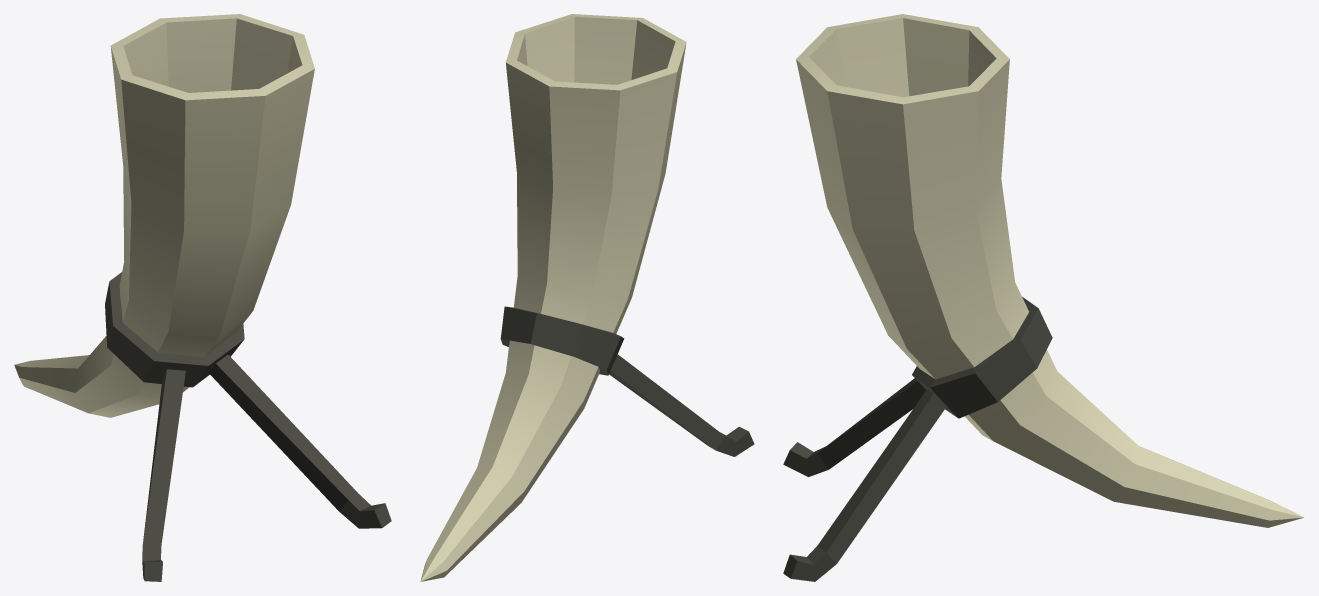
The model's file is Drinkinghorn.glb.
3 views of the same model, side by side, from view 1: azimuth 30°, elevation 25°; view 2: azimuth 150°, elevation 25°; view 3: azimuth 270°, elevation 25° (orthographic). The views are drawn at different scales.
Parts seen in each view (by area): view 1: Drinkinghorn; view 2: Drinkinghorn; view 3: Drinkinghorn.
Boxes of the visible parts, left/top/right/bottom form: Drinkinghorn: left=14, top=14, right=391, bottom=581; Drinkinghorn: left=420, top=14, right=754, bottom=581; Drinkinghorn: left=783, top=14, right=1304, bottom=581.
Size of the model in its own units: 0.1726 by 0.3107 by 0.3121.
Materials: 1 (1 with a texture image).
